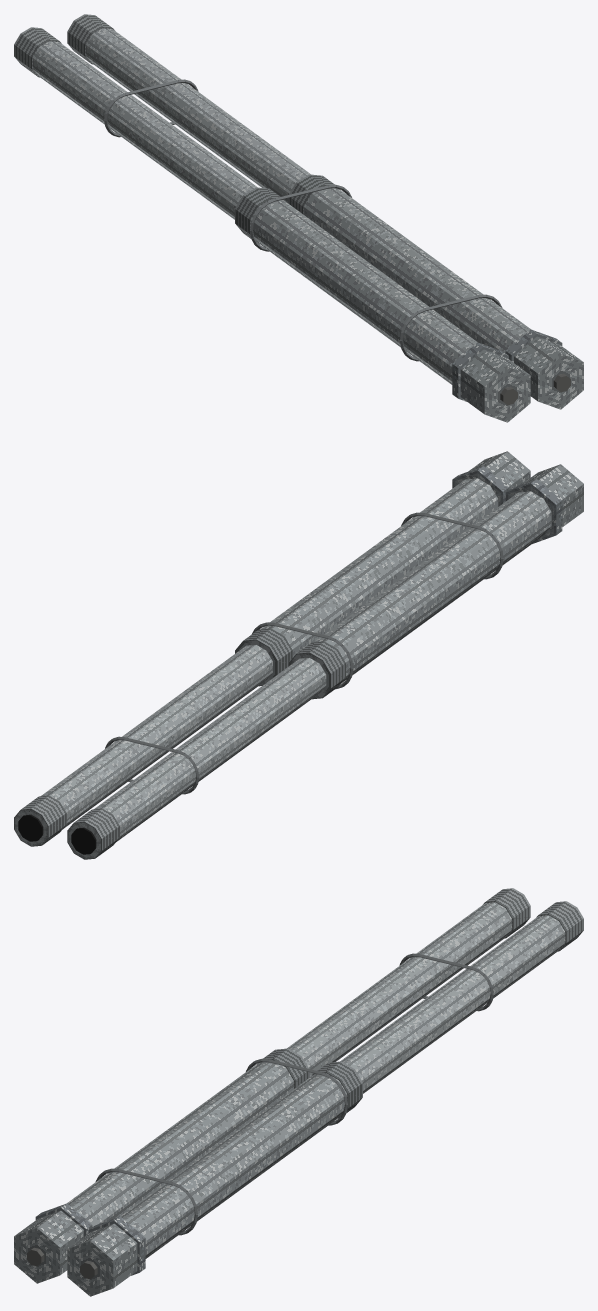
Rendered from slamfire_shotgun_d.glb.
3 views of the same model, one above another, from view 1: azimuth 30°, elevation 25°; view 2: azimuth 150°, elevation 25°; view 3: azimuth 330°, elevation 25° (orthographic).
Visible parts, largest first — view 1: block_receiver (×2), block_barrel (×2), block_end cap (×2), block_barrel thread (×2), block_receiver thread (×2), block_cap rim; view 2: block_receiver (×2), block_barrel (×2), block_end cap (×2), block_barrel thread (×2), block_receiver thread (×2), block_cap rim (×2), block_bore (×2); view 3: block_receiver (×2), block_barrel (×2), block_end cap (×2), block_barrel thread (×2), block_receiver thread (×2), block_cap rim.
Boxes of the visible parts, box(x1,y1,x2,y2) form: block_receiver (×2): box(250, 188, 530, 384); block_barrel (×2): box(32, 28, 310, 219); block_end cap (×2): box(460, 336, 583, 422); block_barrel thread (×2): box(14, 14, 114, 77); block_receiver thread (×2): box(235, 174, 334, 244); block_cap rim: box(452, 342, 508, 401); block_receiver (×2): box(245, 478, 551, 697); block_barrel (×2): box(14, 645, 326, 858); block_end cap (×2): box(454, 451, 583, 538); block_barrel thread (×2): box(14, 795, 119, 859); block_receiver thread (×2): box(235, 628, 345, 699); block_cap rim (×2): box(452, 466, 562, 543); block_bore (×2): box(18, 814, 96, 854); block_receiver (×2): box(67, 1062, 347, 1258); block_barrel (×2): box(287, 902, 565, 1093); block_end cap (×2): box(14, 1210, 137, 1296); block_barrel thread (×2): box(483, 888, 583, 951); block_receiver thread (×2): box(263, 1048, 362, 1118); block_cap rim: box(89, 1216, 145, 1275).
Bounding box in the file's own units: 0.08 × 0.045 × 0.6406.
2 materials, 2 textured.
